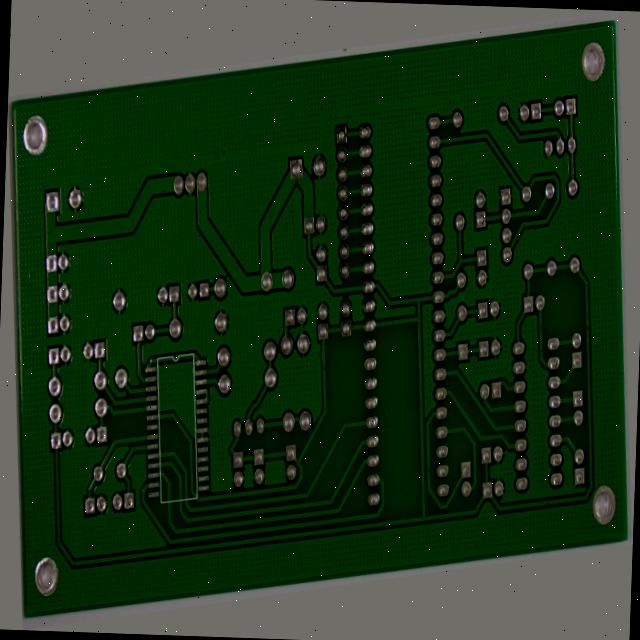mouse_bite: (317, 368, 325, 386), (418, 511, 425, 529), (545, 366, 552, 379)
